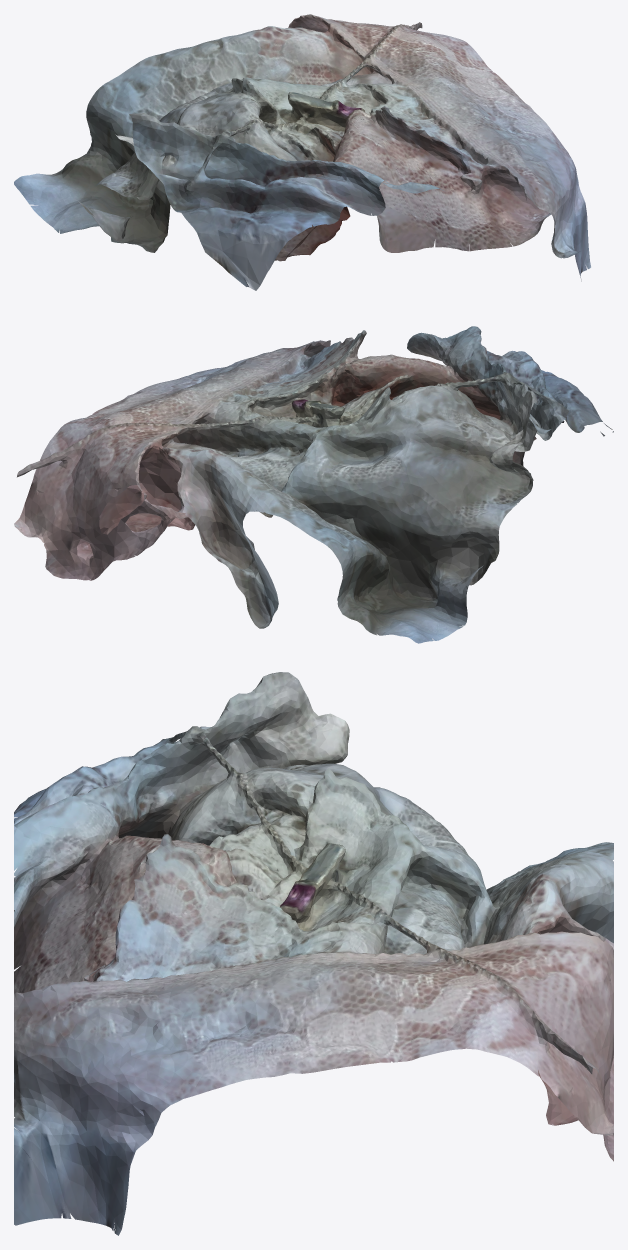
3 renders of one model, top to bottom at view 1: azimuth 30°, elevation 25°; view 2: azimuth 150°, elevation 25°; view 3: azimuth 270°, elevation 25°, orthographic. The views are drawn at different scales.
Parts seen in each view (by area): view 1: Mesh_0.006; view 2: Mesh_0.006; view 3: Mesh_0.006.
Part boxes in pixels (x1,y1,x2,y2): Mesh_0.006: [14, 14, 590, 290]; Mesh_0.006: [14, 326, 613, 643]; Mesh_0.006: [14, 672, 613, 1235].
Bounding box in the file's own units: 0.1842 × 0.0919 × 0.1702.
1 material, 1 textured.
